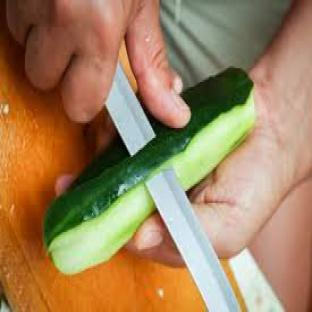Cucumber: (45, 69, 255, 274)
